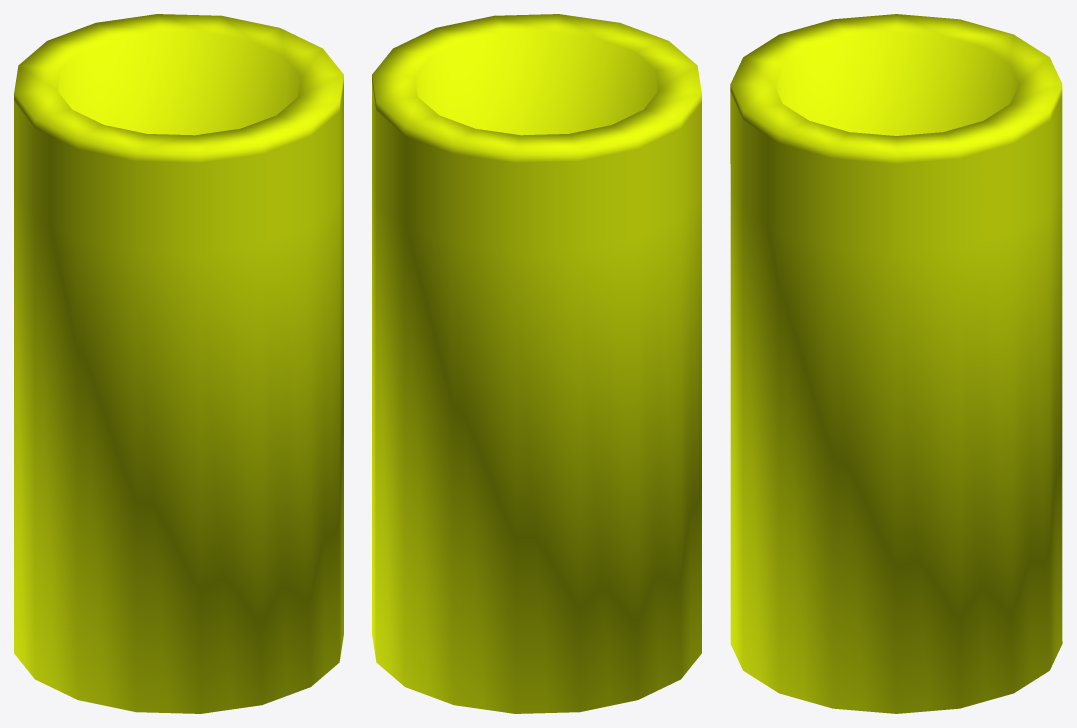
Rendered from MisirYuvasiz 1.fbx.
The picture shows the model from 3 angles, left to right: view 1: azimuth 30°, elevation 25°; view 2: azimuth 150°, elevation 25°; view 3: azimuth 270°, elevation 25°; orthographic projection.
Visible parts, largest first — view 1: Normal.002; view 2: Normal.002; view 3: Normal.002.
Boxes of the visible parts, bbox=[...] form: Normal.002: bbox=[14, 14, 343, 713]; Normal.002: bbox=[372, 14, 701, 713]; Normal.002: bbox=[730, 14, 1062, 713].
Size of the model in its own units: 106 by 198 by 106.
